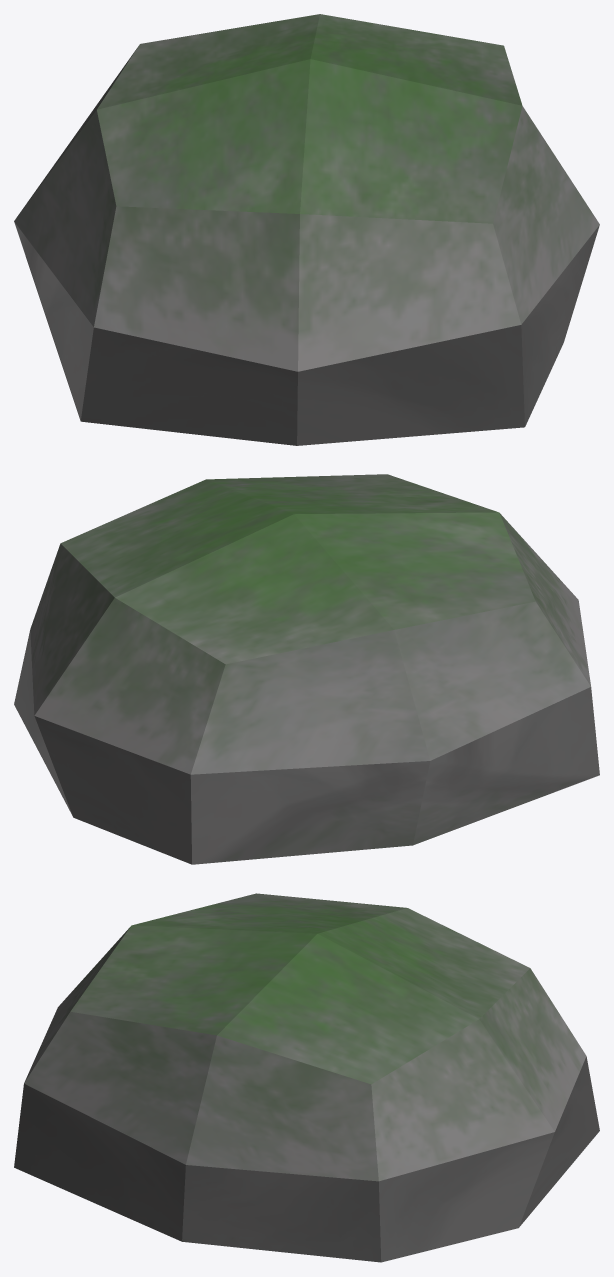
Rendered from ARC0710066.fbx.
The picture shows the model from 3 angles, top to bottom: view 1: azimuth 30°, elevation 25°; view 2: azimuth 150°, elevation 25°; view 3: azimuth 270°, elevation 25°; orthographic projection. The views are drawn at different scales.
Parts seen in each view (by area): view 1: smARC0710066; view 2: smARC0710066; view 3: smARC0710066.
Part boxes in pixels (<box>): smARC0710066: <box>14,14,599,445</box>; smARC0710066: <box>14,474,599,864</box>; smARC0710066: <box>14,893,599,1262</box>.
Bounding box in the file's own units: 92.28 × 44.49 × 97.73.
Materials: 1 (1 with a texture image).
